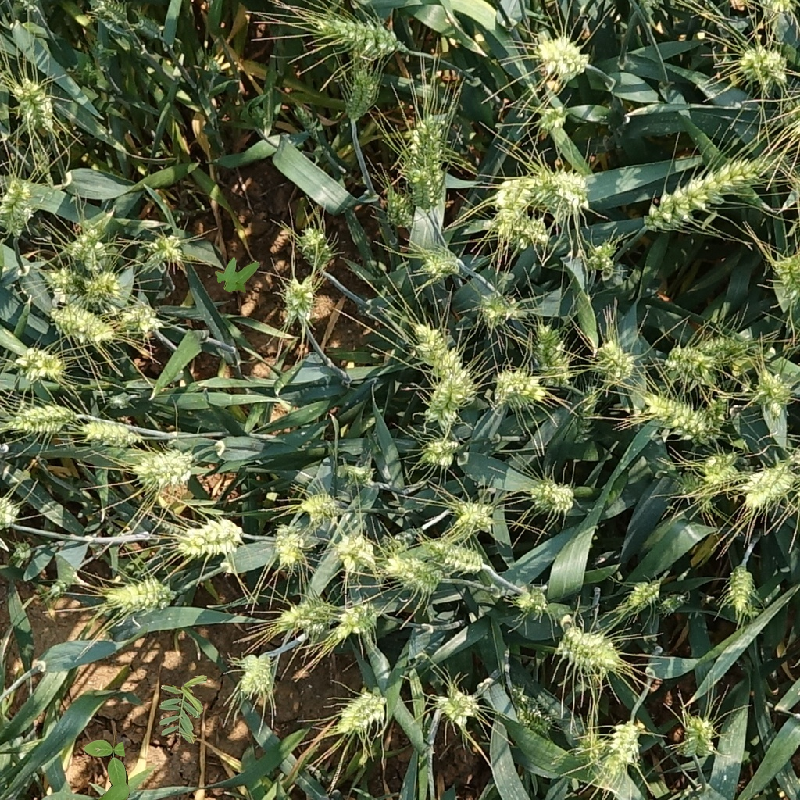spikelet: (640, 151, 777, 235), (637, 388, 717, 444), (310, 11, 402, 57), (555, 621, 624, 674), (406, 317, 466, 376), (420, 367, 476, 428), (174, 513, 245, 560), (100, 574, 175, 615), (530, 317, 574, 386), (131, 445, 198, 490), (740, 460, 797, 511), (47, 303, 115, 345), (534, 30, 590, 81), (490, 363, 549, 411), (333, 687, 388, 737), (12, 74, 57, 134), (275, 594, 336, 637), (383, 551, 443, 594), (493, 209, 552, 252), (7, 400, 77, 436), (506, 684, 554, 736), (540, 166, 593, 213), (427, 536, 489, 576), (591, 334, 639, 385), (737, 42, 790, 88), (270, 519, 316, 571), (406, 110, 450, 164), (663, 341, 718, 384), (278, 272, 320, 327), (526, 474, 579, 517), (333, 596, 383, 641), (721, 562, 761, 618), (341, 66, 380, 123), (79, 414, 140, 450), (332, 527, 378, 574), (433, 685, 483, 728), (12, 344, 67, 383), (447, 494, 498, 536), (64, 225, 110, 271), (1, 173, 35, 235), (294, 221, 336, 270), (696, 327, 754, 362), (141, 228, 188, 271), (752, 366, 795, 412), (491, 171, 537, 214), (698, 447, 746, 488), (295, 485, 344, 525), (118, 298, 165, 339), (236, 649, 276, 697), (408, 161, 445, 212), (476, 288, 522, 329), (617, 575, 663, 615), (607, 717, 643, 768), (680, 712, 719, 759), (418, 243, 464, 282), (419, 432, 466, 470), (43, 264, 85, 304), (82, 268, 126, 306), (288, 97, 326, 141), (381, 187, 418, 232), (771, 249, 799, 306), (580, 238, 619, 276), (512, 580, 550, 618), (339, 457, 379, 493), (574, 727, 606, 767), (86, 1, 131, 29), (536, 104, 567, 132), (655, 591, 687, 618), (752, 1, 799, 19), (1, 492, 21, 533)
weed: (140, 659, 227, 752), (78, 728, 136, 800), (209, 258, 262, 300)
